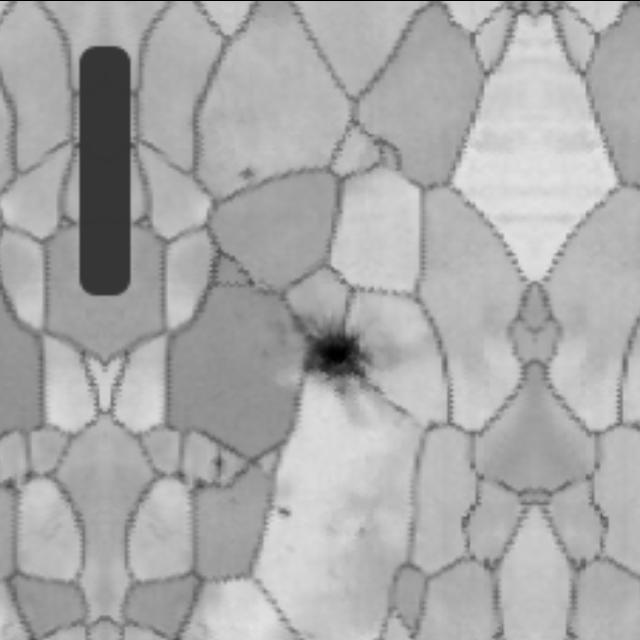good_void: (301, 317, 380, 396), (268, 493, 303, 531), (236, 163, 263, 182)
